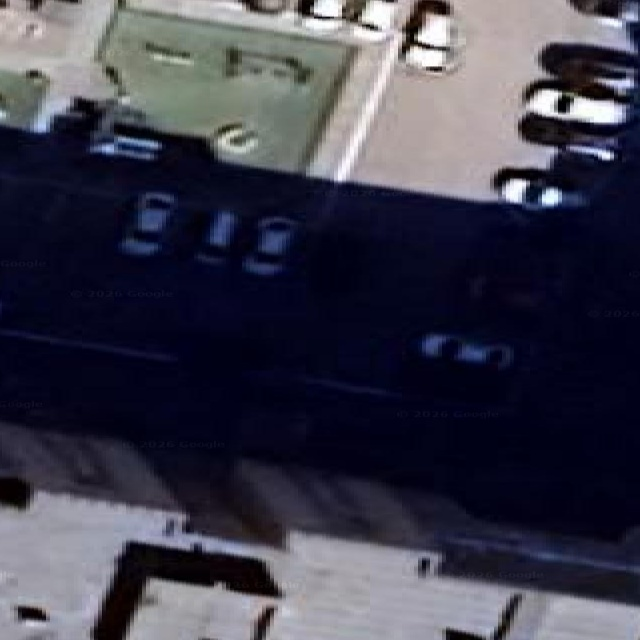car: (460, 223, 573, 322), (400, 331, 522, 406), (520, 115, 619, 160), (524, 85, 630, 124), (88, 104, 161, 160), (400, 0, 457, 71), (464, 270, 547, 316), (493, 168, 583, 209), (420, 332, 512, 369), (120, 192, 172, 256), (555, 56, 636, 96), (243, 216, 296, 275), (196, 209, 238, 261), (500, 175, 562, 207), (89, 135, 160, 160), (572, 0, 639, 26), (352, 0, 395, 39), (213, 121, 258, 154), (300, 0, 343, 31), (564, 138, 617, 161), (244, 0, 286, 13), (0, 92, 8, 121)
